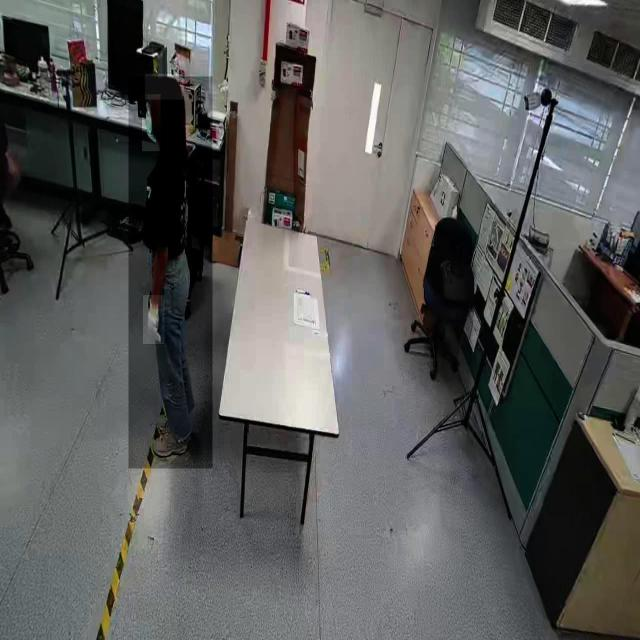face_mask: (142, 94, 160, 151)
hand_glove: (143, 295, 165, 345)
head_nohelmet: (145, 74, 184, 100)
person: (129, 77, 213, 470)
